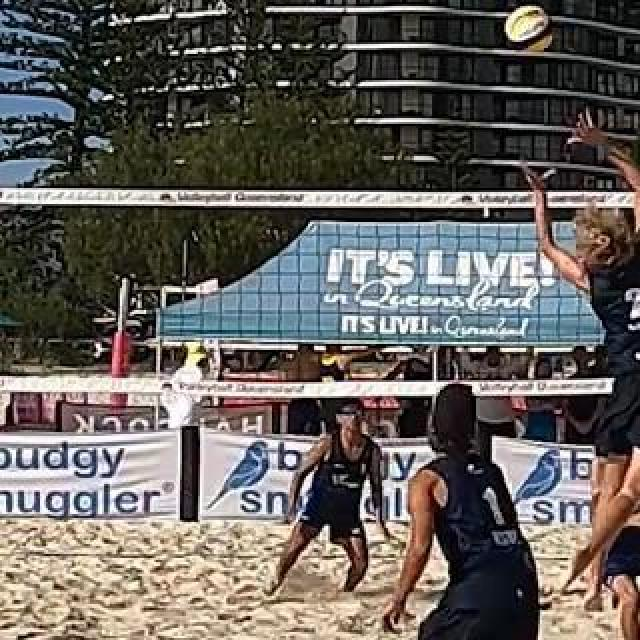volleyball: (505, 5, 553, 51)
